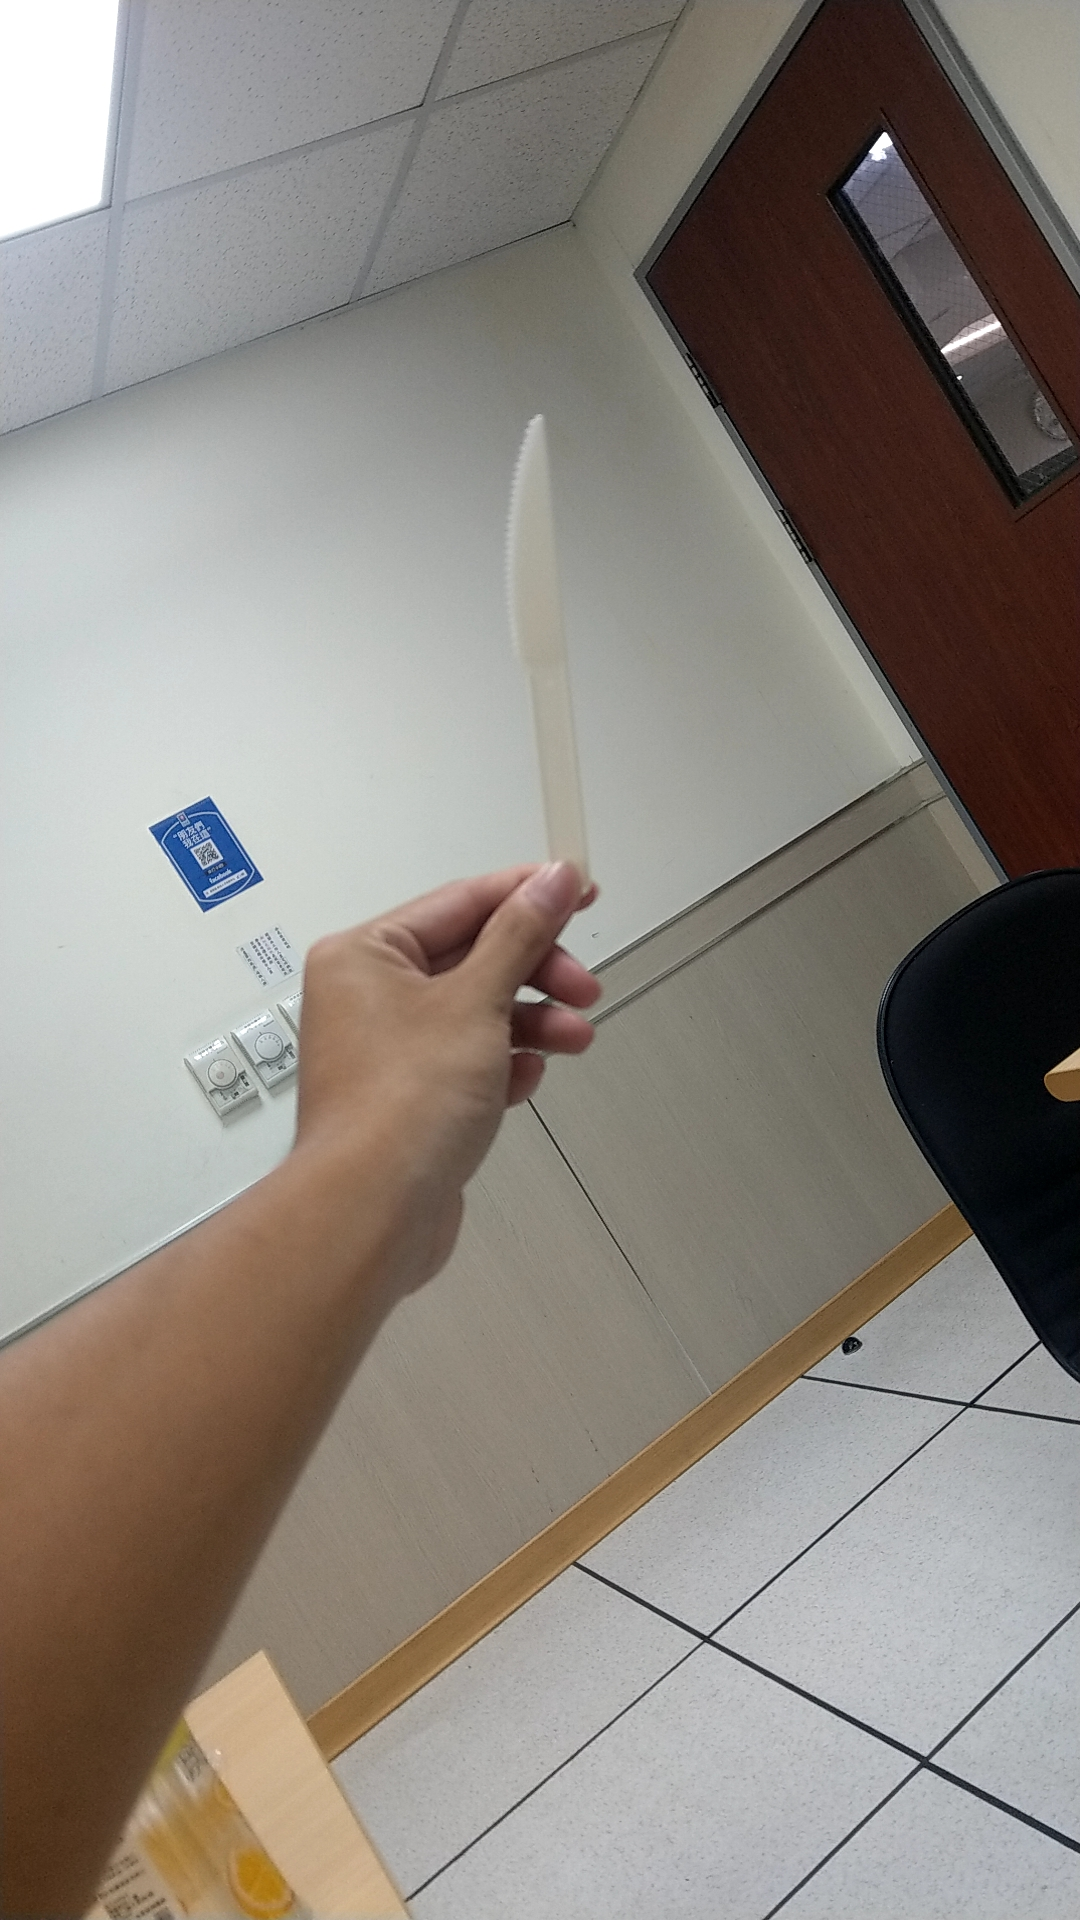knife: (479, 393, 618, 907)
